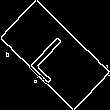L_NE: (27, 26, 83, 84)
